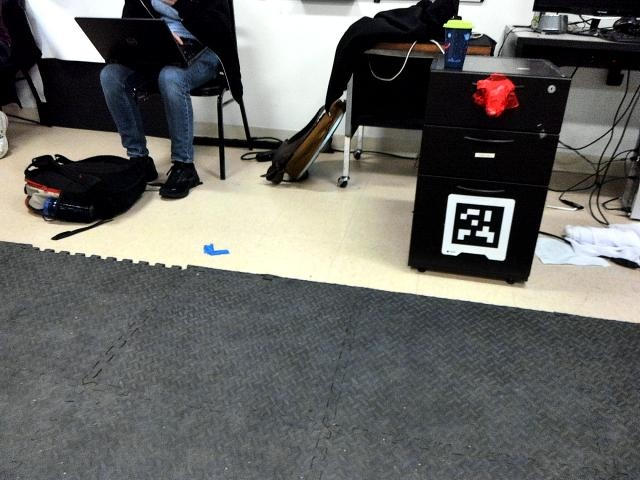useless_cup: (436, 18, 476, 67)
